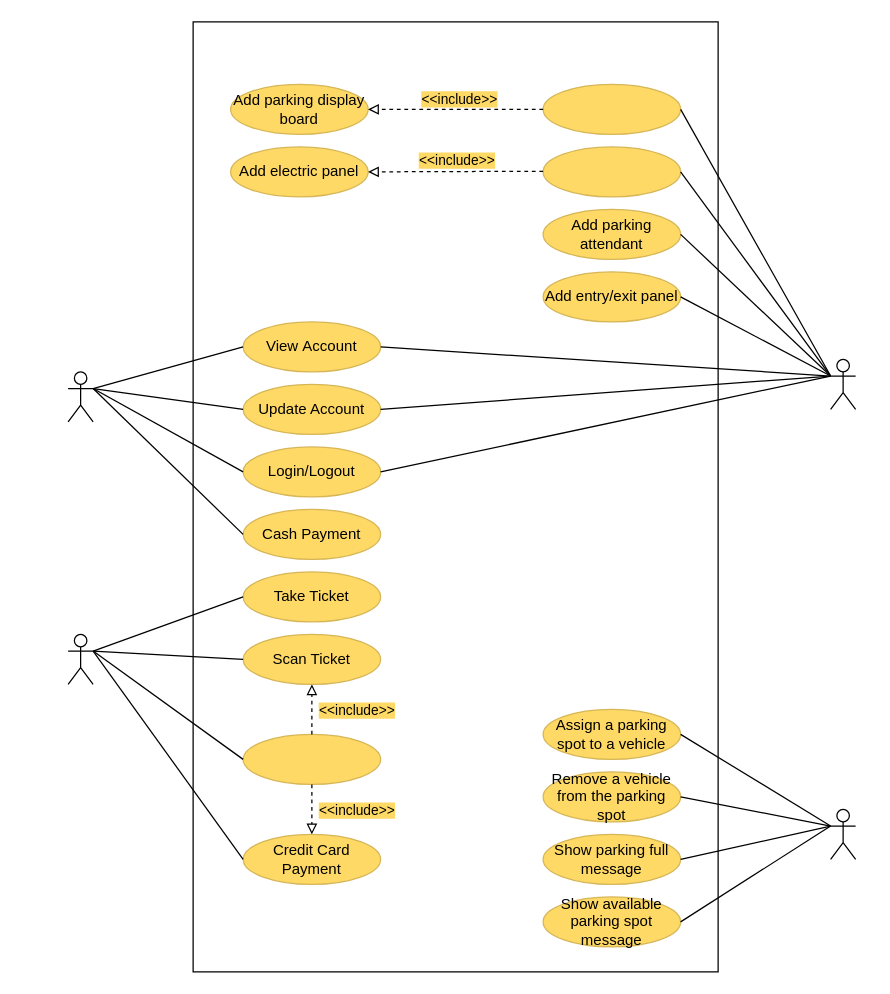
The diagram is 890 pixels wide and 994 high, and some of its shapes have lost their labels. The shapes that lost their labels are listed below. From the top down, each one's centre as x and y in pixels, then its label:
the point at 611,108: Add parking floor
the point at 611,171: Add parking spot
the point at 80,396: Parking Attendant
the point at 842,383: Admin
the point at 80,658: Customer
the point at 311,758: Pay Ticket
the point at 842,833: System
